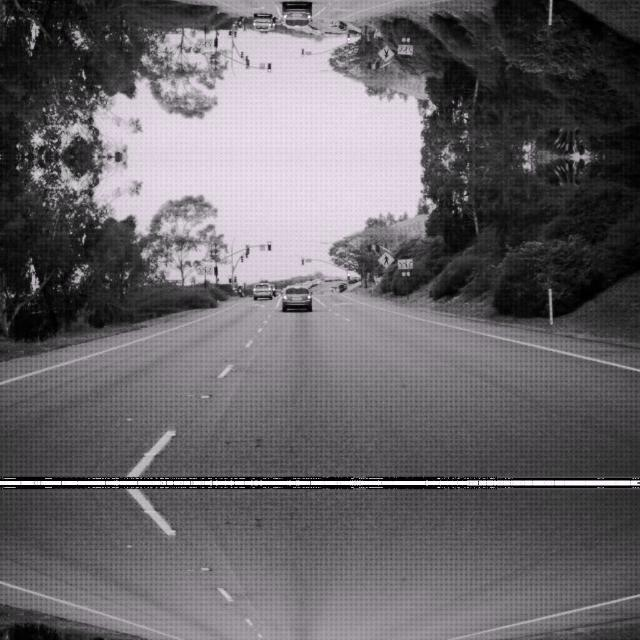pedestrianCrossing: (376, 249, 394, 267), (376, 45, 394, 63)
